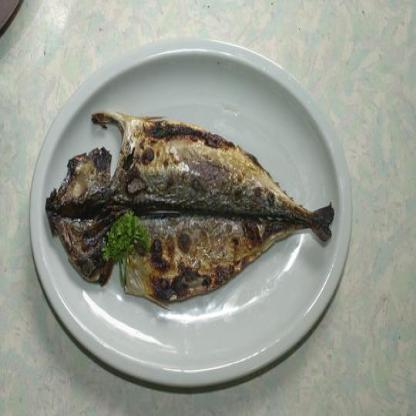Peixe: (54, 104, 361, 314)
